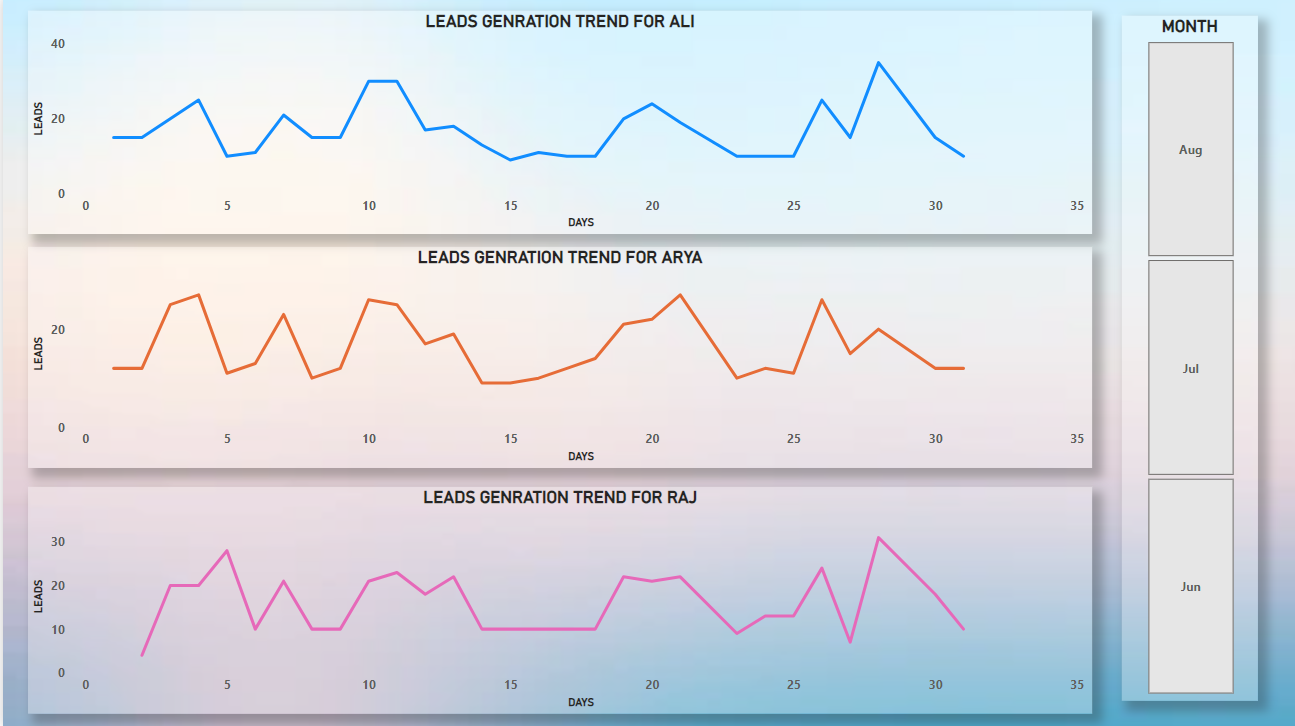

The page's visual inventory and layout, read from the dashboard file:
{"tool":"powerbi","page":{"name":"Leads Generation Trend","canvas":[1280,720],"ordinal":1},"visuals":[{"type":"lineChart","title":"LEADS GENRATION TREND FOR ALI","fields":{"Category":["Append1.Date.Variation.Date Hierarchy.Day"],"Y":["Sum(Append1.Leads)"]},"box":[24.7,12.3,1051.1,220.9],"z":0},{"type":"lineChart","title":"LEADS GENRATION TREND FOR ARYA","fields":{"Category":["Append1.Date.Variation.Date Hierarchy.Day"],"Y":["Sum(Append1.Leads)"]},"box":[24.7,245.6,1051.1,218.2],"z":1000},{"type":"lineChart","title":"LEADS GENRATION TREND FOR RAJ","fields":{"Category":["Append1.Date.Variation.Date Hierarchy.Day"],"Y":["Sum(Append1.Leads)"]},"box":[24.7,483,1051.1,223.7],"z":2000},{"type":"slicer","title":"MONTH","fields":{"Values":["Append1.MonthName"]},"box":[1104.6,17.8,134.5,676.5],"z":2001}]}

Visuals, with their boxes in screenshot pixels (x1, y1, x2, y2), scaled from the page's 1280x720 canvas onto the 1295x726 screenshot:
"LEADS GENRATION TREND FOR ALI" lineChart: select_region(25, 12, 1088, 235)
"LEADS GENRATION TREND FOR ARYA" lineChart: select_region(25, 248, 1088, 468)
"LEADS GENRATION TREND FOR RAJ" lineChart: select_region(25, 487, 1088, 713)
"MONTH" slicer: select_region(1118, 18, 1254, 700)
